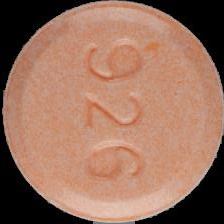0093-0926: (0, 0, 224, 224)
